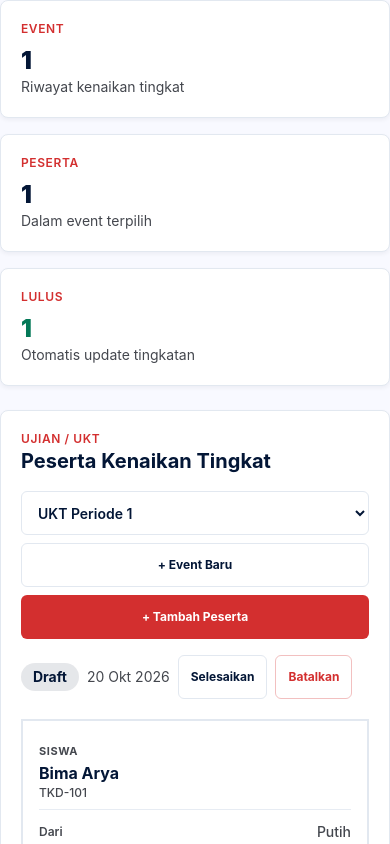
Test: AcademyRankPromotionsManager › membuka modal tambah peserta saat tombol diklik di mobile
What coordinates should you click on to do the following:
click the button "+ Tambah Peserta"
I would click on:
 (195, 617)
Its box is 21,595 -> 369,639.
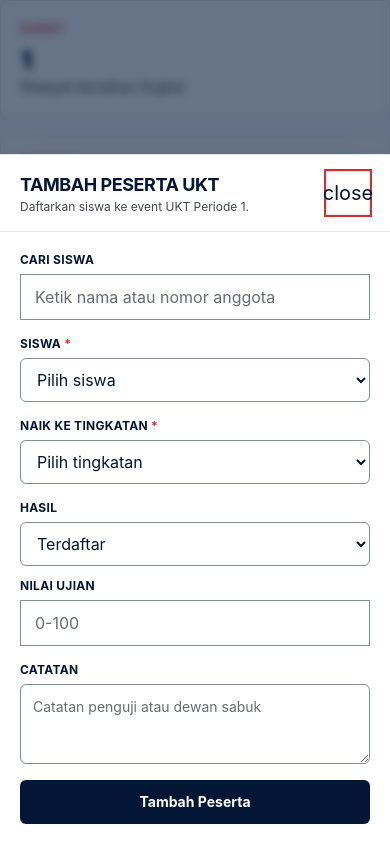
Now the dialog is shown
Now the heading "Tambah Peserta UKT" is shown, box 20,171 -> 249,199
